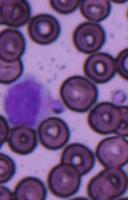L: (1, 73, 53, 129)
